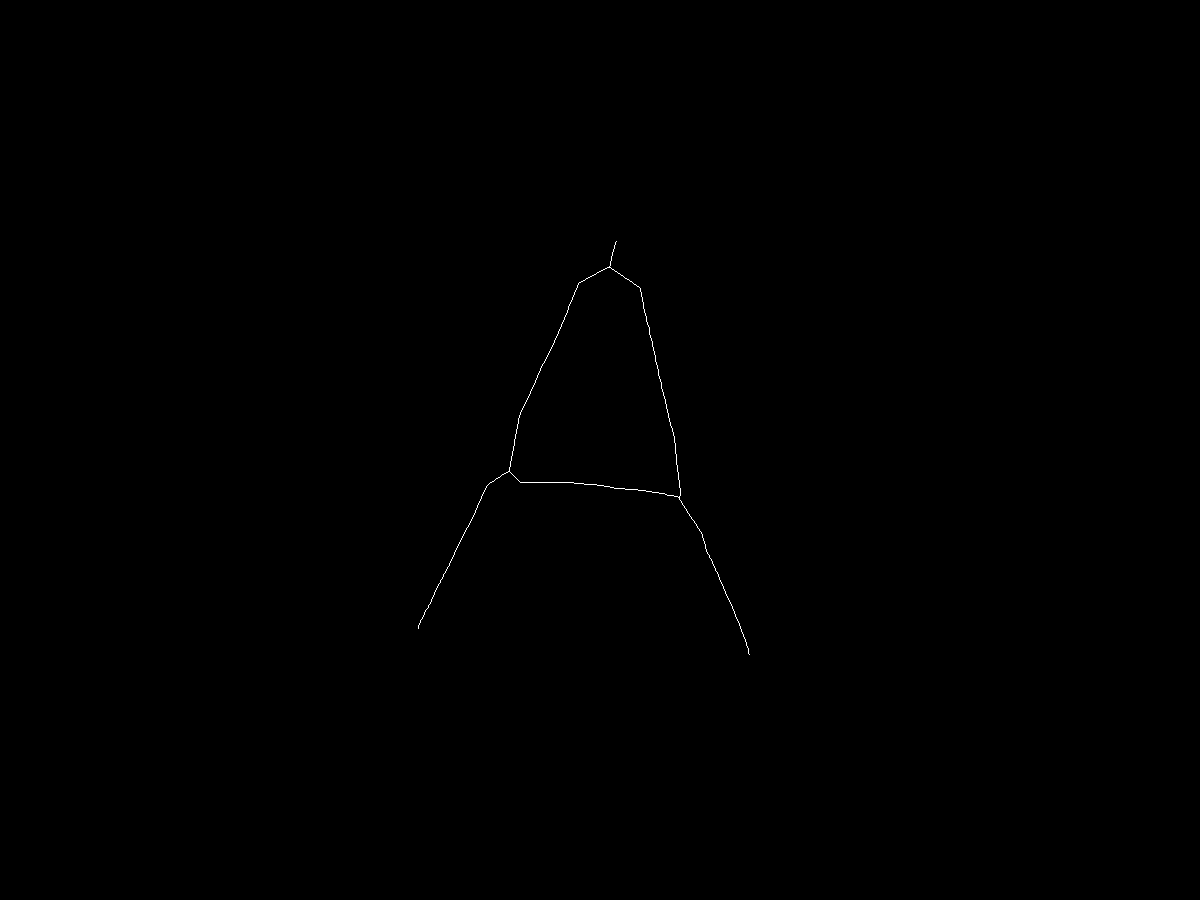dian1: (601, 260, 618, 277)
dian2: (502, 461, 518, 477)
dian3: (409, 619, 430, 640)
dian4: (670, 488, 690, 508)
dian5: (741, 648, 761, 668)
